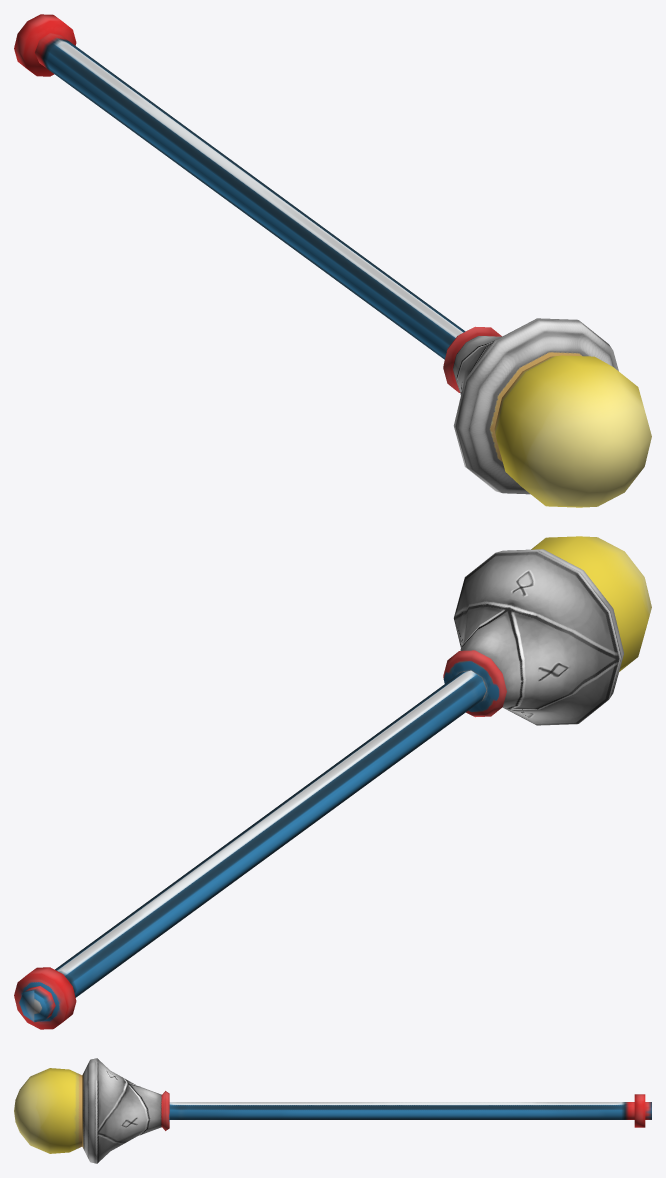
File: Fumiko_Wand.fbx
3 renders of one model, top to bottom at view 1: azimuth 30°, elevation 25°; view 2: azimuth 150°, elevation 25°; view 3: azimuth 270°, elevation 25°, orthographic. The views are drawn at different scales.
Visible parts, largest first — view 1: Fumiko_Wand; view 2: Fumiko_Wand; view 3: Fumiko_Wand.
Part boxes in pixels (<box>): Fumiko_Wand: <box>14,14,651,507</box>; Fumiko_Wand: <box>14,536,651,1029</box>; Fumiko_Wand: <box>14,1058,651,1163</box>.
Bounding box in the file's own units: 1.04 × 1.04 × 6.27.
